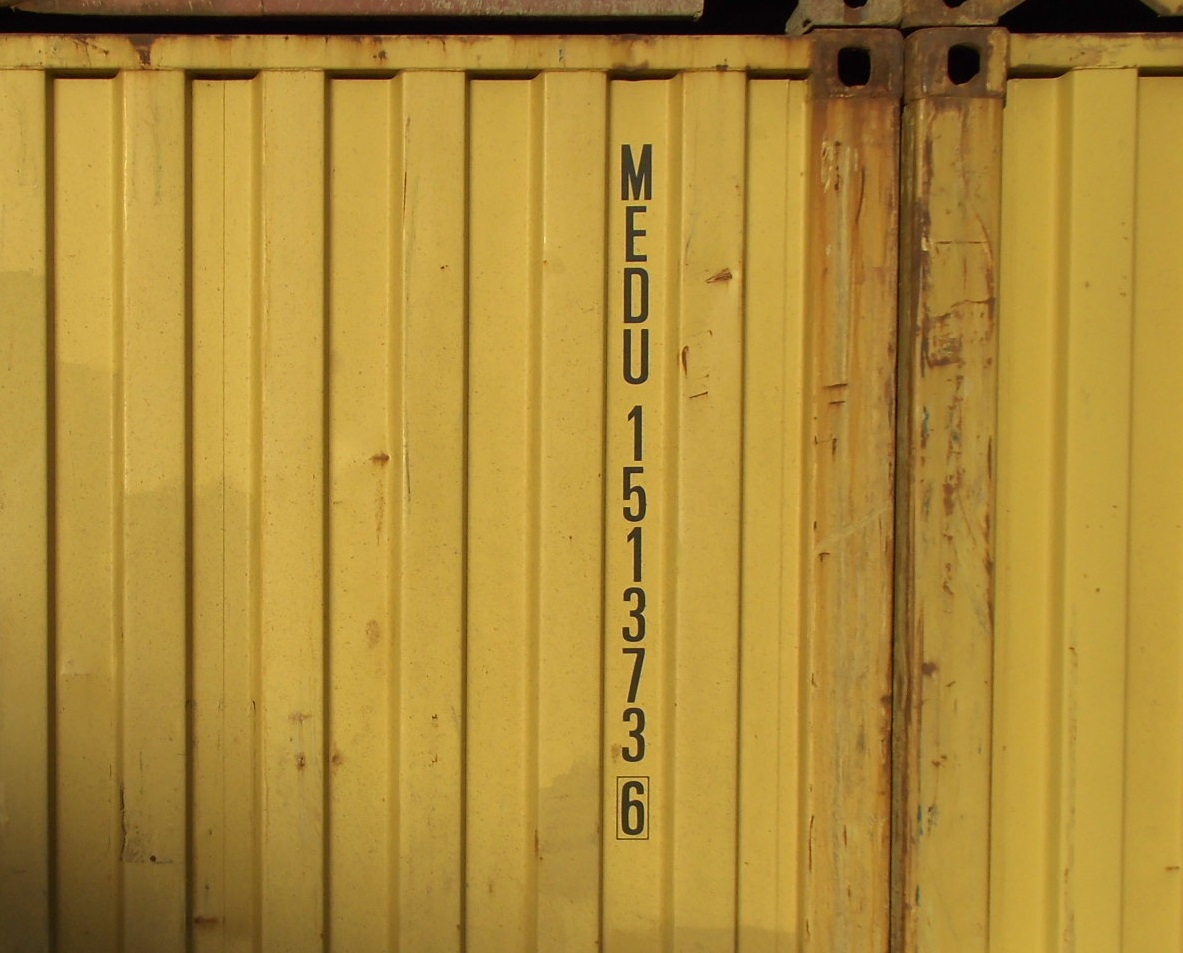container_no_door: (7, 29, 895, 953)
